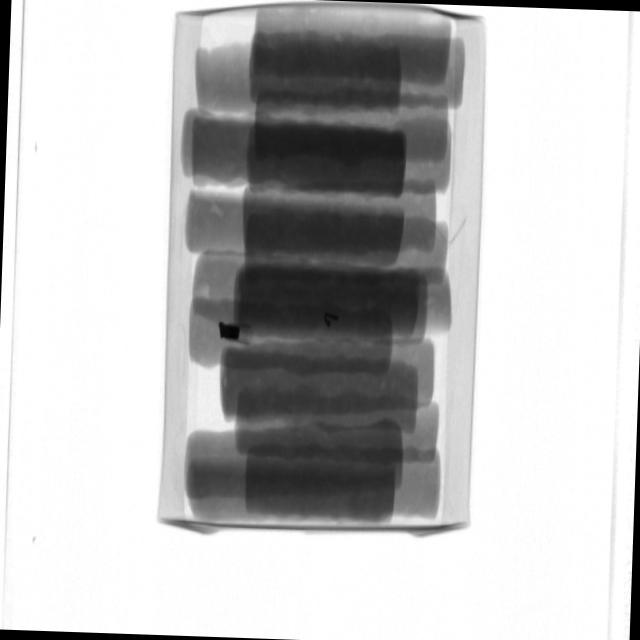ym: (219, 322, 241, 341), (324, 313, 339, 327)
